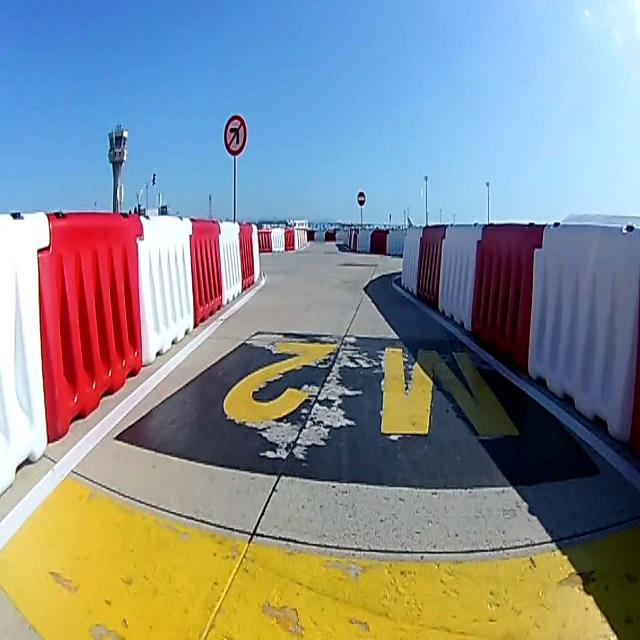girisyok: (356, 187, 366, 208)
soladonulmez: (224, 113, 246, 155)
